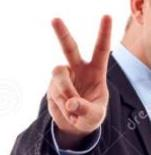front: (43, 13, 115, 132)
